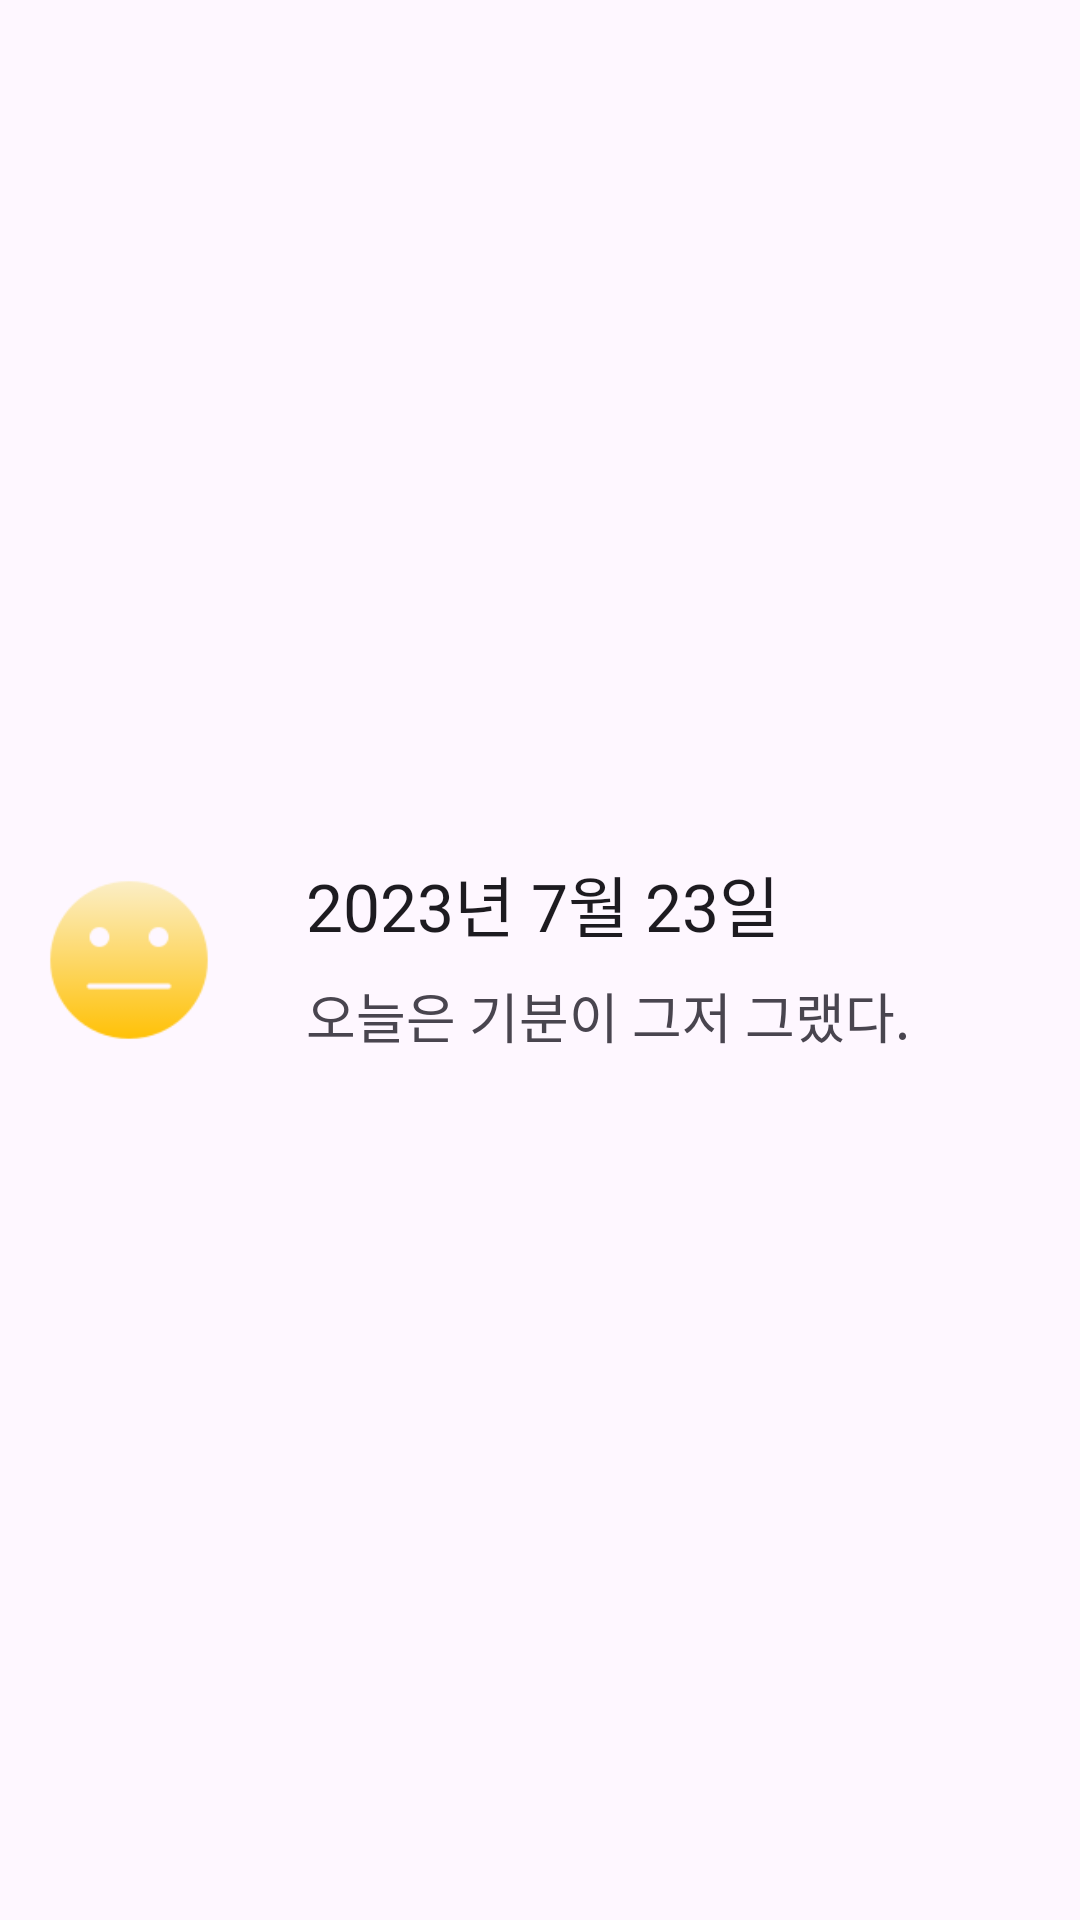

Screen size 1080x1920. Icon name, then its center in pixels as point (x, y):
mood soso: point (129, 960)
